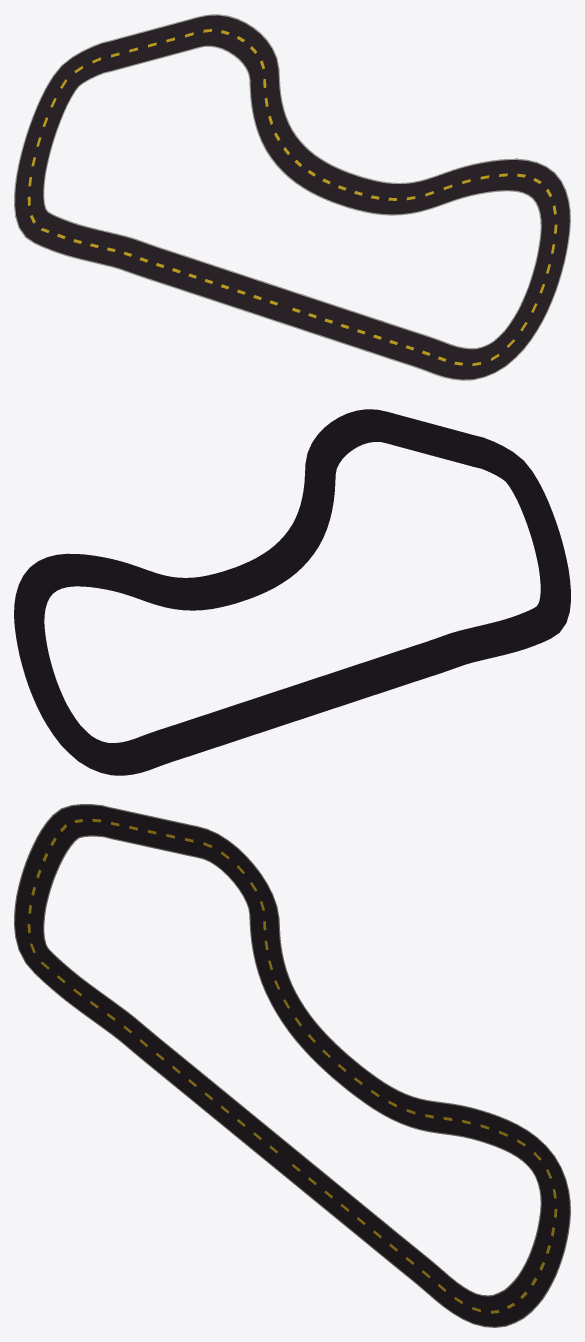
The model's file is track.obj.
3 renders of one model, top to bottom at view 1: azimuth 30°, elevation 25°; view 2: azimuth 150°, elevation 25°; view 3: azimuth 330°, elevation 25°, orthographic.
Bounding box in the file's own units: 19.55 × 14.46 × 0.002.
